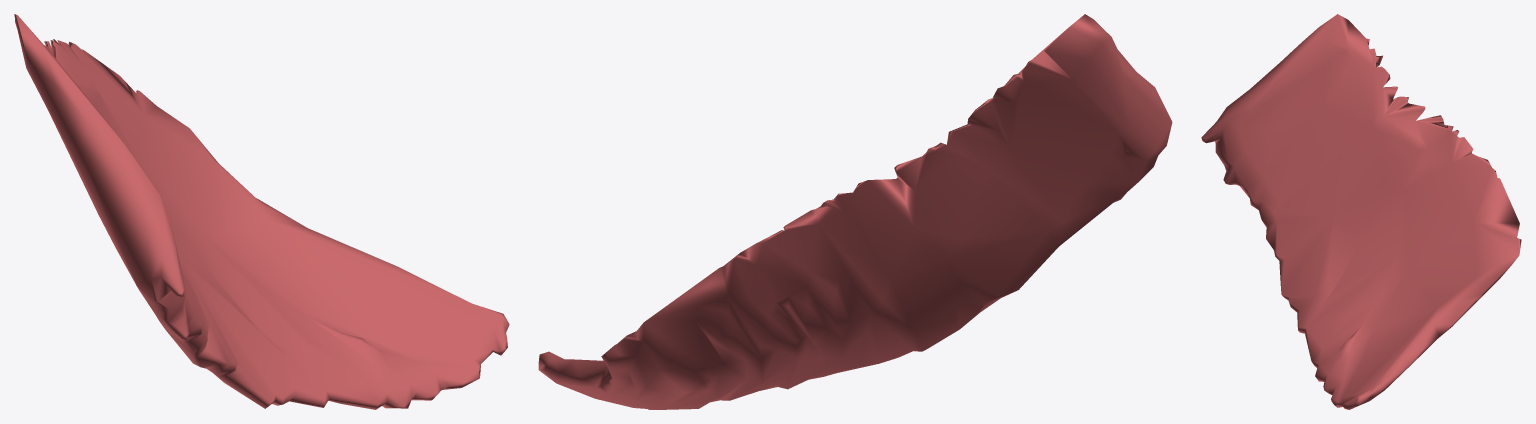
3 renders of one model, left to right at view 1: azimuth 30°, elevation 25°; view 2: azimuth 150°, elevation 25°; view 3: azimuth 270°, elevation 25°, orthographic. The views are drawn at different scales.
Parts seen in each view (by area): view 1: 右侧降下唇肌; view 2: 右侧降下唇肌; view 3: 右侧降下唇肌.
Boxes of the visible parts, bbox=[...] form: 右侧降下唇肌: bbox=[14, 14, 509, 409]; 右侧降下唇肌: bbox=[538, 14, 1172, 409]; 右侧降下唇肌: bbox=[1201, 14, 1521, 409].
Bounding box in the file's own units: 0.0451 × 0.0402 × 0.0435.
